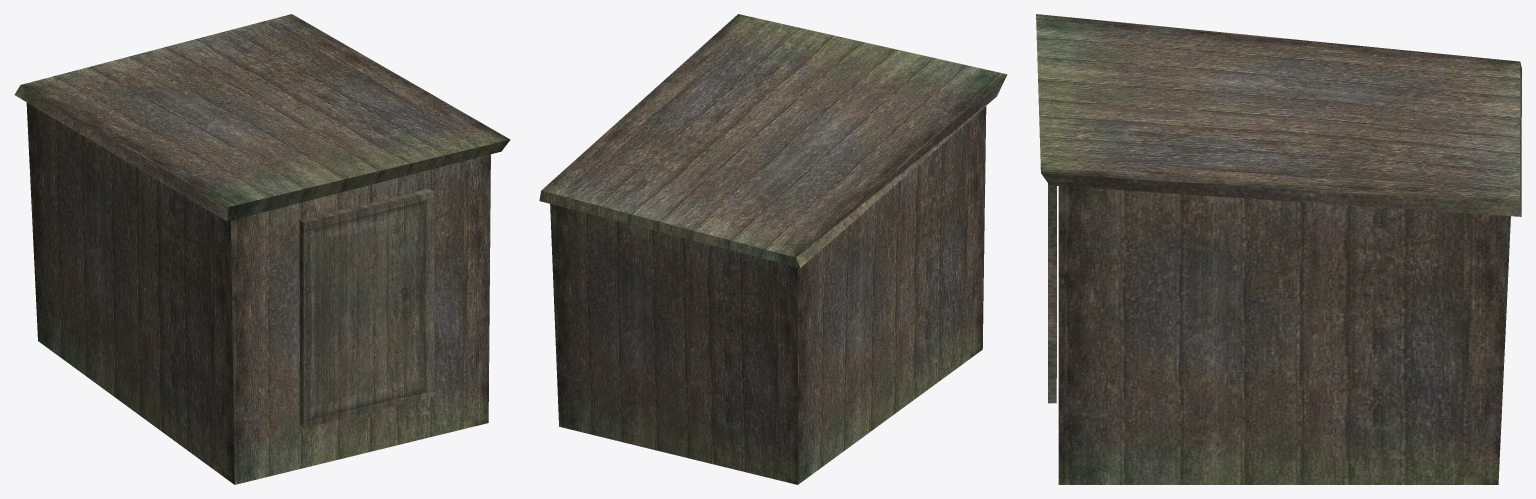
Rendered from Shed.glb.
3 views of the same model, side by side, from view 1: azimuth 30°, elevation 25°; view 2: azimuth 150°, elevation 25°; view 3: azimuth 270°, elevation 25° (orthographic). The views are drawn at different scales.
Parts seen in each view (by area): view 1: Shed-col; view 2: Shed-col; view 3: Shed-col.
Part boxes in pixels (<box>): Shed-col: <box>14,14,510,484</box>; Shed-col: <box>539,14,1007,484</box>; Shed-col: <box>1036,14,1521,484</box>.
Bounding box in the file's own units: 3.13 × 3.04 × 4.14.
2 materials, 2 textured.
